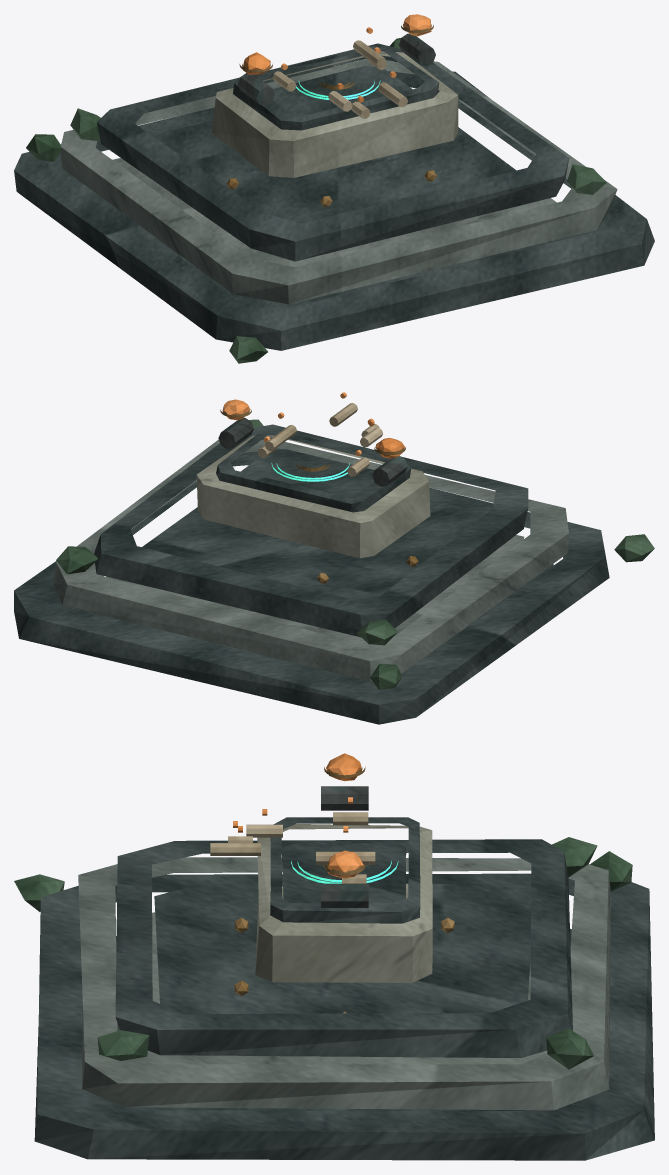
Rendered from 0471_altar_21.glb.
3 views of the same model, one above another, from view 1: azimuth 30°, elevation 25°; view 2: azimuth 150°, elevation 25°; view 3: azimuth 270°, elevation 25° (orthographic). The views are drawn at different scales.
Parts seen in each view (by area): view 1: stone_dark, stone, stone_light, moss, bone, iron, amber, brass; view 2: stone_dark, stone, stone_light, moss, bone, iron, amber, brass; view 3: stone_dark, stone, stone_light, moss, bone, iron, amber, brass.
Boxes of the visible parts, x1=… form: stone_dark: x1=14, y1=43, x2=654, y2=350; stone: x1=60, y1=59, x2=617, y2=304; stone_light: x1=212, y1=51, x2=458, y2=177; moss: x1=26, y1=38, x2=606, y2=363; bone: x1=272, y1=40, x2=407, y2=118; iron: x1=237, y1=33, x2=435, y2=105; amber: x1=243, y1=14, x2=431, y2=102; brass: x1=226, y1=24, x2=436, y2=206; stone_dark: x1=14, y1=424, x2=609, y2=724; stone: x1=53, y1=438, x2=568, y2=681; stone_light: x1=196, y1=435, x2=430, y2=557; moss: x1=56, y1=419, x2=654, y2=689; bone: x1=257, y1=403, x2=382, y2=476; iron: x1=218, y1=418, x2=407, y2=486; amber: x1=223, y1=392, x2=405, y2=458; brass: x1=220, y1=409, x2=418, y2=583; stone_dark: x1=34, y1=817, x2=654, y2=1160; stone: x1=78, y1=857, x2=610, y2=1110; stone_light: x1=255, y1=824, x2=432, y2=982; moss: x1=14, y1=837, x2=632, y2=1069; bone: x1=210, y1=812, x2=375, y2=883; iron: x1=321, y1=786, x2=368, y2=907; amber: x1=233, y1=753, x2=363, y2=878; brass: x1=234, y1=767, x2=454, y2=1013.
Bounding box in the file's own units: 3.2 × 1.28 × 3.23.
Materials: 9 (9 with a texture image).
